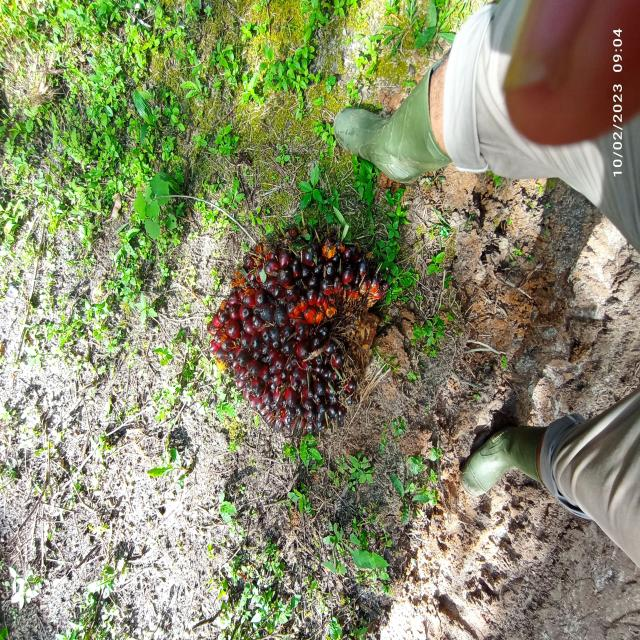fraksi 1: (166, 178, 405, 481)
